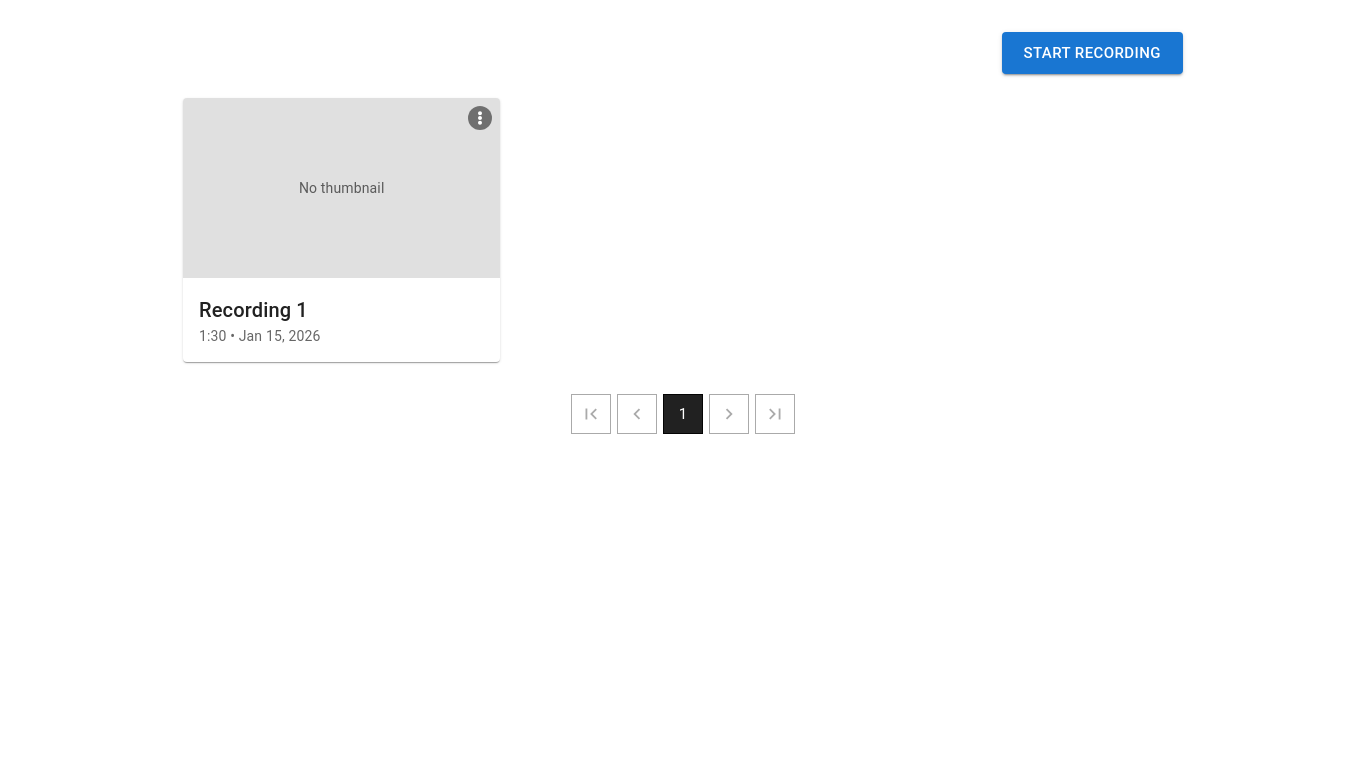
Test case: RecordingCard Menu › menu options › closes menu after selecting an action
Click the button with test id "recording-card-menu-button-rec-1" at (480, 118), box [468,106,492,130]
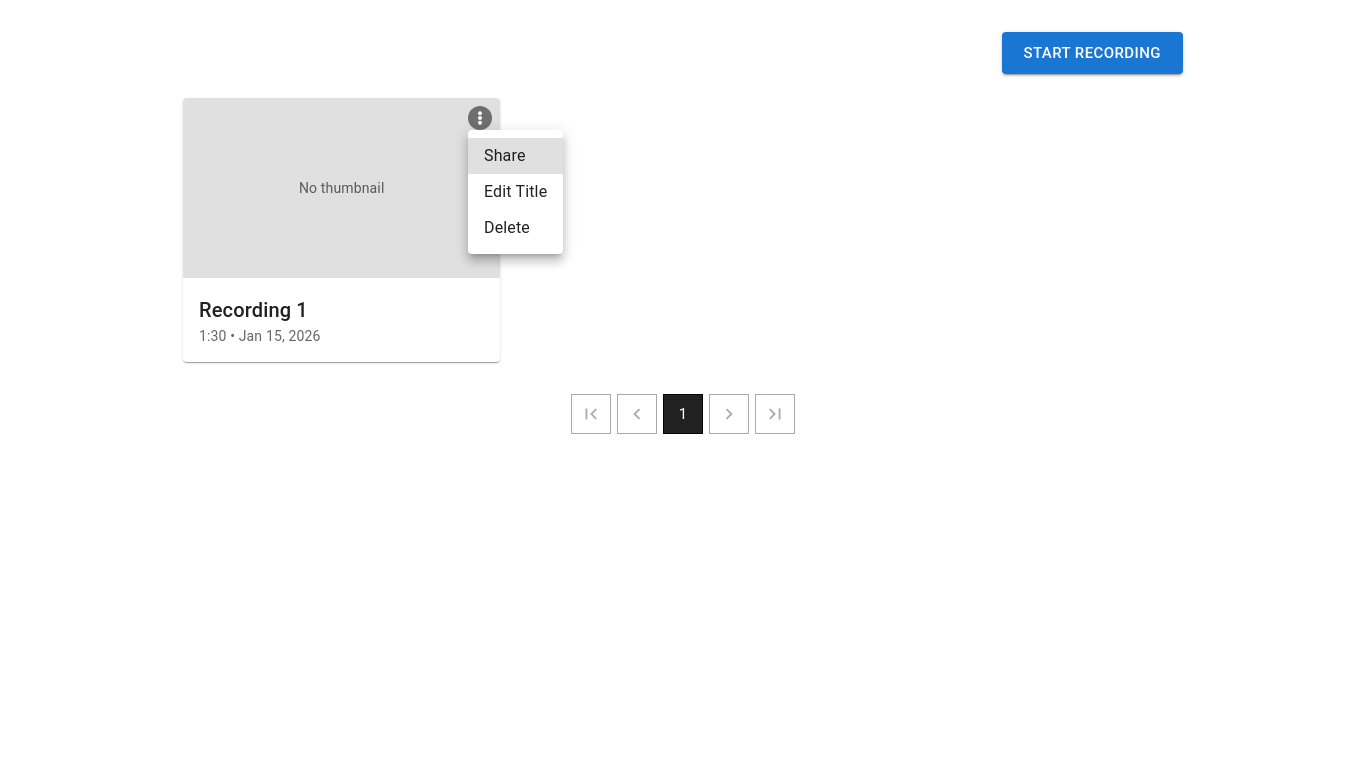
Now the menu item "Share" is shown
Click the menu item "Share" at (516, 156), box [468,138,563,174]
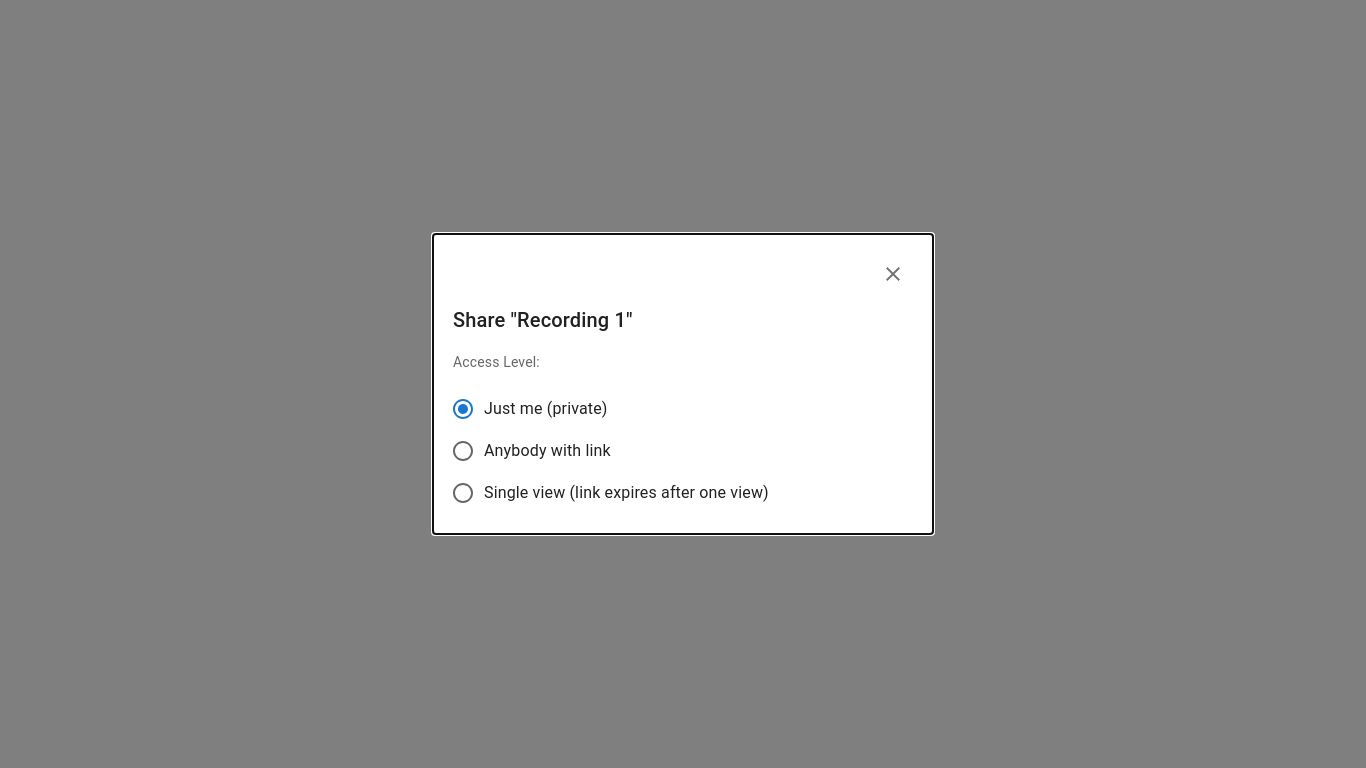
Now the element with test id "recording-card-menu-rec-1" is gone
